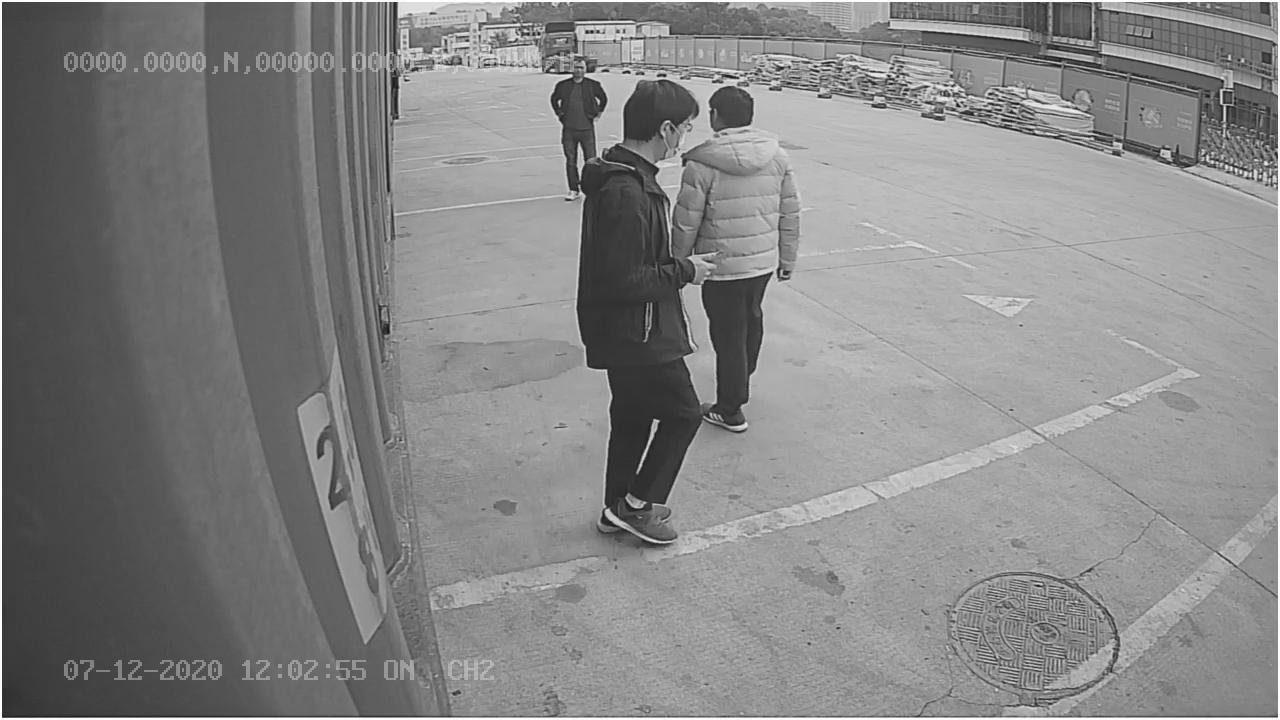person: (580, 83, 715, 556)
